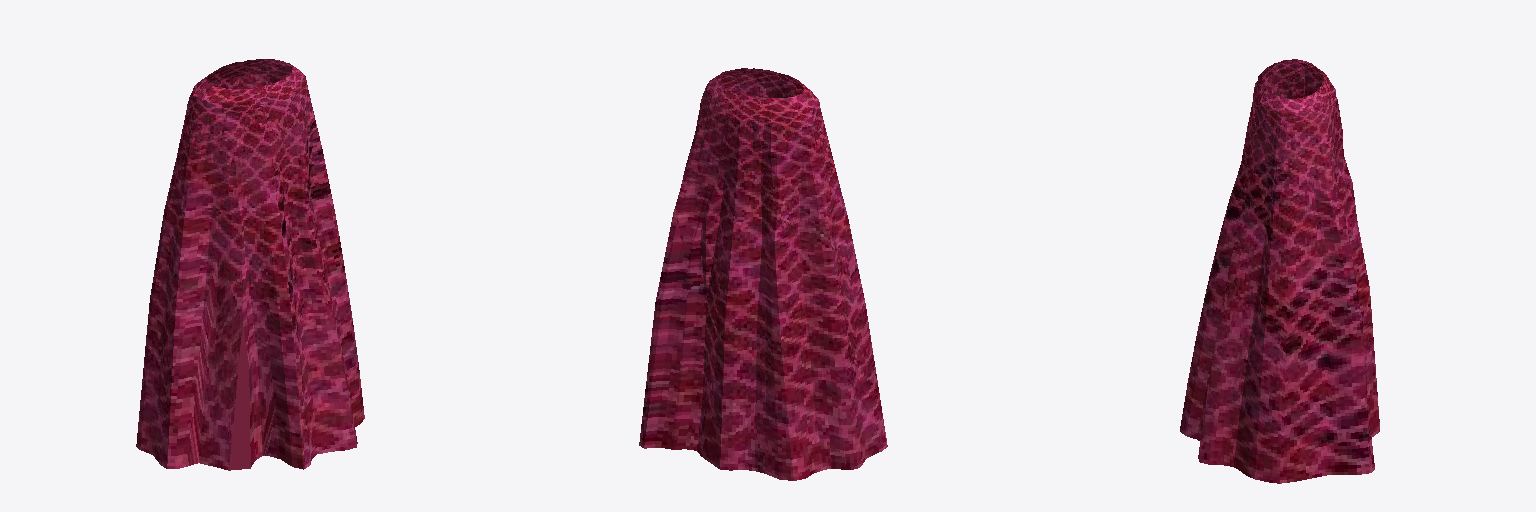
3 views of the same model, side by side, from view 1: azimuth 30°, elevation 25°; view 2: azimuth 150°, elevation 25°; view 3: azimuth 270°, elevation 25° (orthographic).
Visible parts, largest first — view 1: lowertunic; view 2: lowertunic; view 3: lowertunic.
Part boxes in pixels (x1,y1,x2,y2): lowertunic: (136,59,364,470); lowertunic: (639,68,887,480); lowertunic: (1180,59,1379,483).
Size of the model in its own units: 3.18 by 5.13 by 2.64.
2 materials, 1 textured.